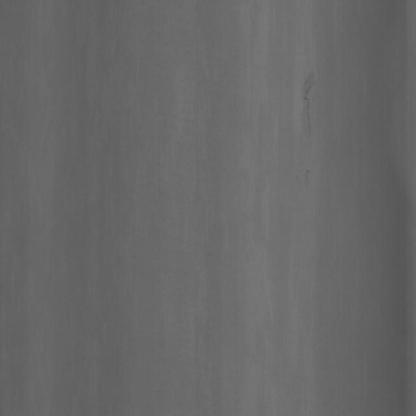water_spot: (288, 57, 320, 172)
